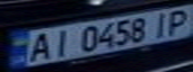0: (75, 22, 100, 52)
4: (97, 20, 118, 50)
5: (112, 17, 136, 46)
8: (127, 15, 154, 43)
A: (21, 29, 57, 62)
I: (45, 27, 78, 57), (148, 10, 175, 38)
P: (160, 7, 193, 36)
